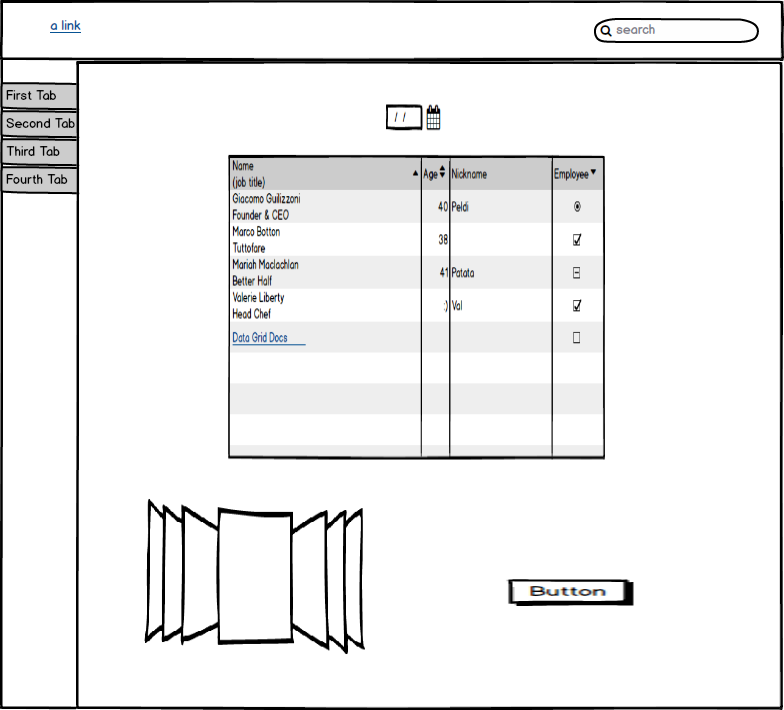button: (503, 574, 641, 611)
date_picker: (380, 100, 447, 136)
navlink: (38, 14, 99, 39)
search: (592, 12, 764, 51)
sidebar: (1, 76, 83, 198)
slideshow: (139, 496, 368, 660)
table: (223, 151, 609, 468)
